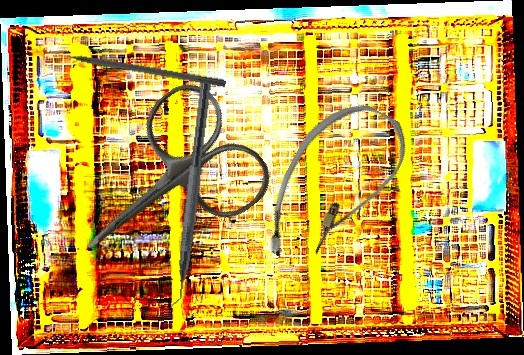Cannula: (249, 86, 419, 287)
Chopper: (159, 81, 212, 316)
Iris Scissors: (43, 72, 282, 301)
Pusher: (44, 46, 227, 88)
